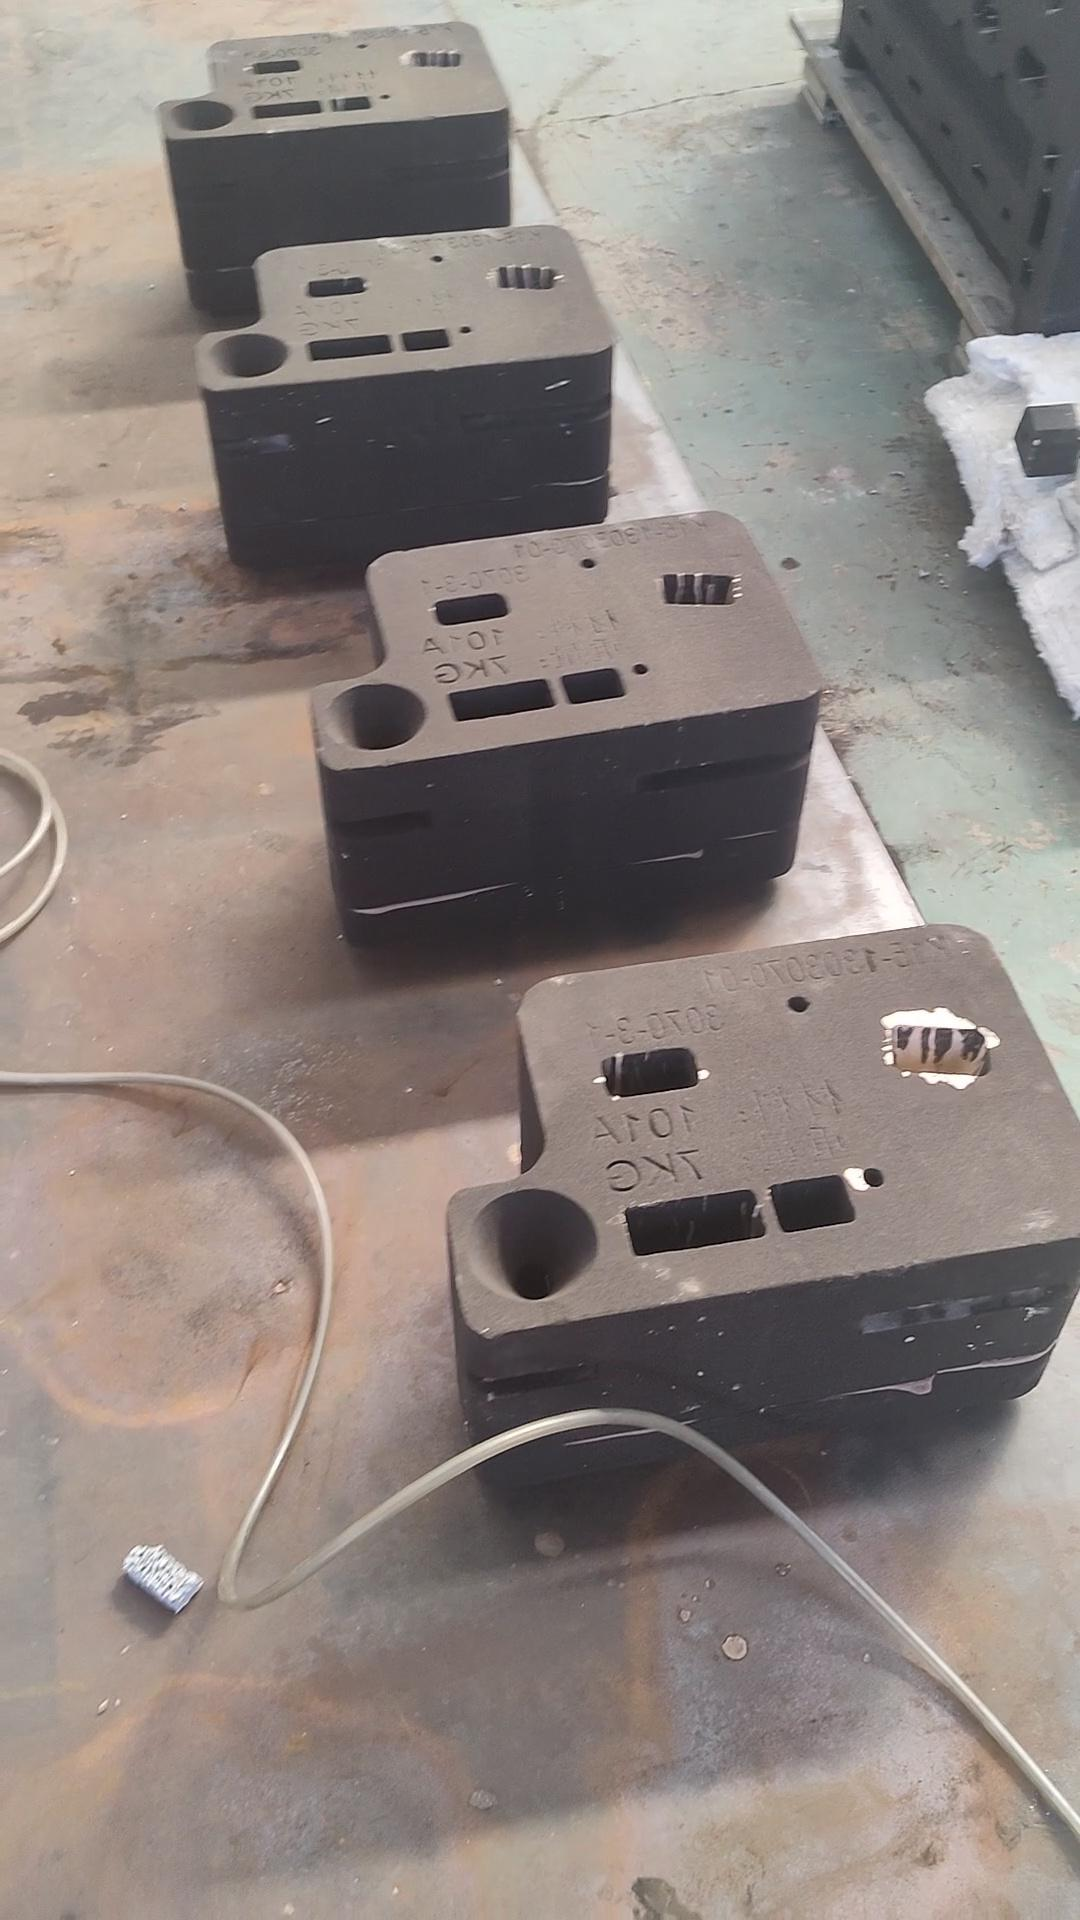pouring hole: (465, 1189, 600, 1300), (324, 684, 426, 752), (204, 334, 287, 378), (170, 99, 233, 132)
